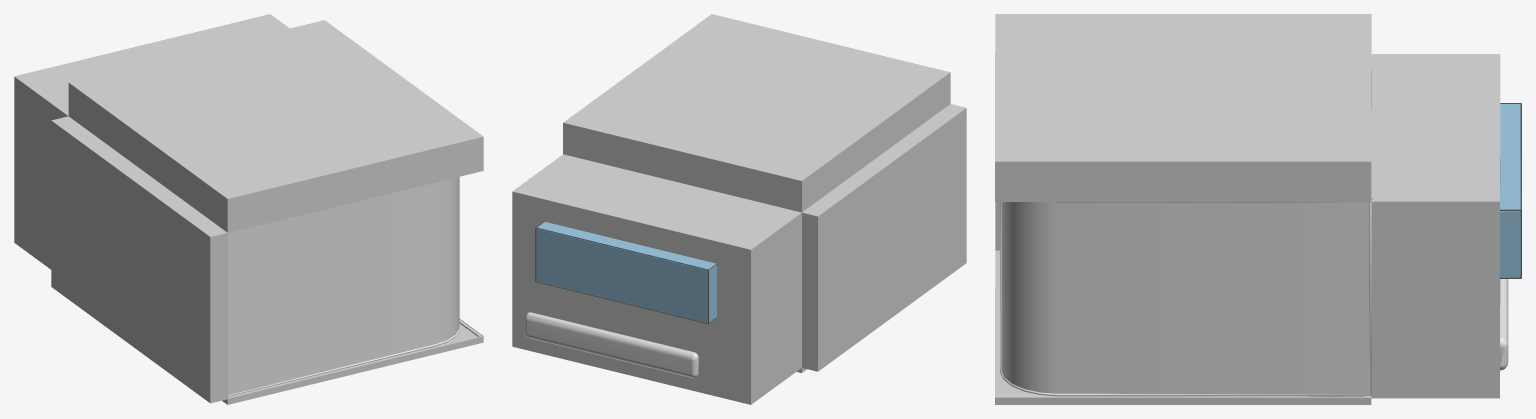
Rendered from Scifi Room.fbx.
3 renders of one model, left to right at view 1: azimuth 30°, elevation 25°; view 2: azimuth 150°, elevation 25°; view 3: azimuth 270°, elevation 25°, orthographic. The views are drawn at different scales.
Parts seen in each view (by area): view 1: Ceiling, Wall, Cube, Floor, Cube.001_Curve; view 2: Wall, Ceiling, Window, Bed.frozen; view 3: Ceiling, Cube, Wall, Floor, Window, Cube.001_Curve, Bed.frozen.
Part boxes in pixels (box(x1,y1,x2,y2)): Ceiling: box(68, 20, 483, 232); Wall: box(14, 14, 289, 403); Cube: box(228, 177, 459, 396); Floor: box(222, 319, 483, 404); Cube.001_Curve: box(228, 323, 460, 396); Wall: box(512, 104, 966, 404); Ceiling: box(563, 14, 950, 212); Window: box(535, 221, 717, 324); Bed.frozen: box(525, 312, 698, 378); Ceiling: box(995, 14, 1371, 201); Cube: box(1001, 198, 1373, 396); Wall: box(995, 54, 1500, 398); Floor: box(995, 250, 1371, 404); Window: box(1500, 103, 1521, 278); Cube.001_Curve: box(1000, 202, 1371, 396); Bed.frozen: box(1500, 279, 1508, 370).
Bounding box in the file's own units: 623 × 448 × 880.
